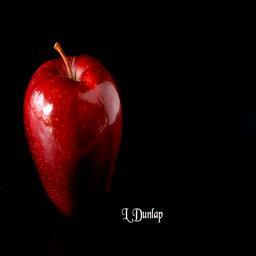apple: (22, 45, 124, 216)
